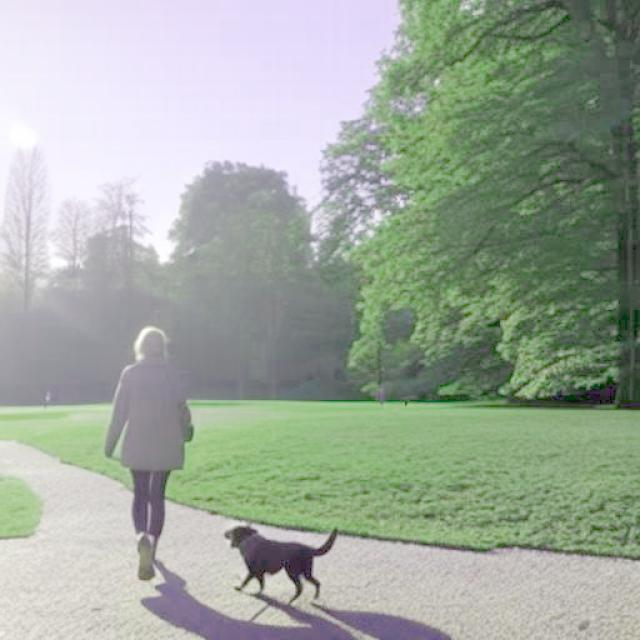Unleashed_Dog: (149, 459, 338, 610)
